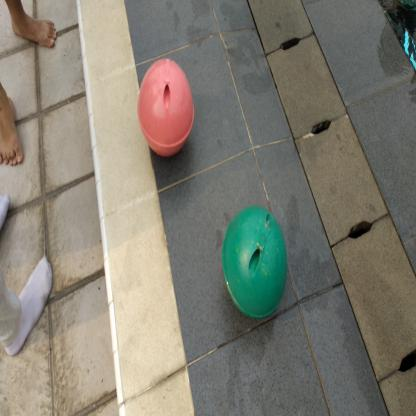green_buoy: (219, 200, 292, 334)
red_buoy: (135, 52, 197, 167)
